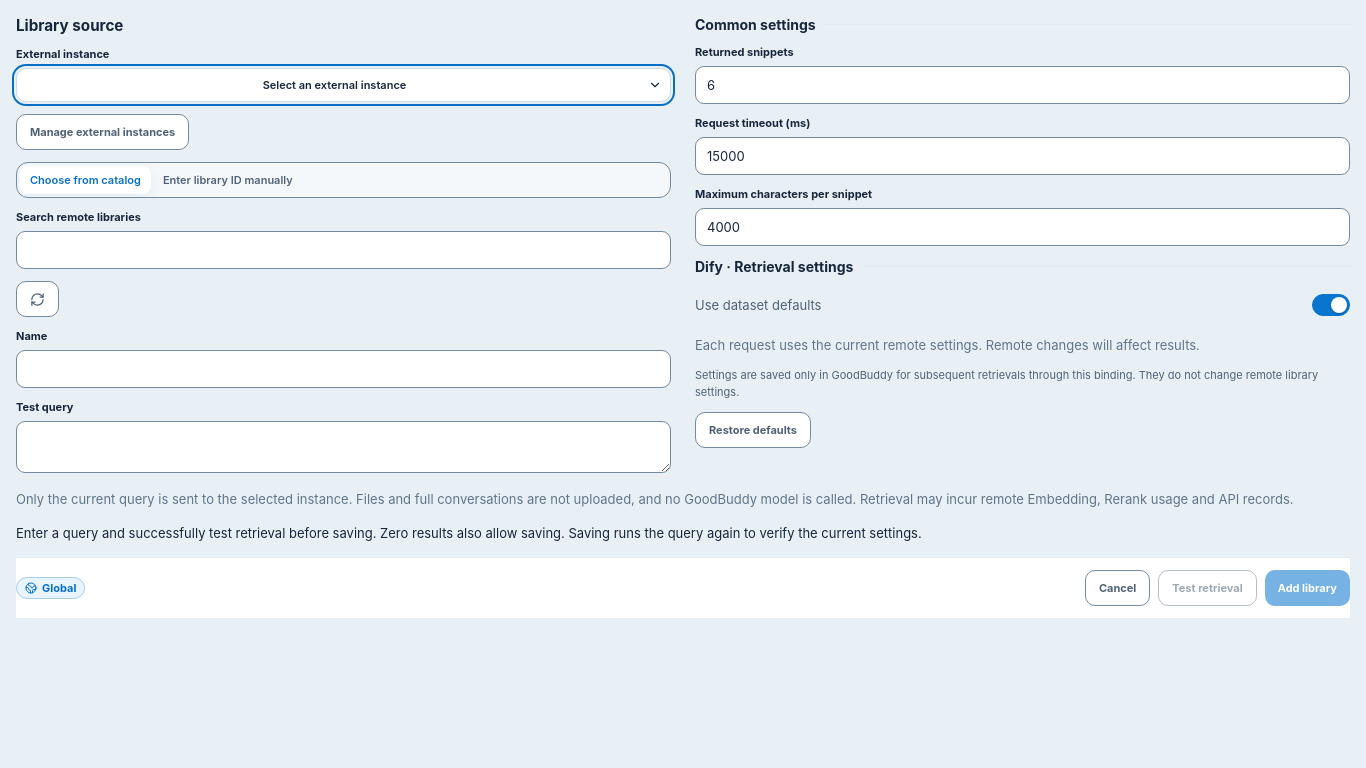
Test case: external knowledge workflows › can dismiss an instance menu when every instance is disabled
Click the button "Select an external instance": click(344, 85) [16,68,671,102]
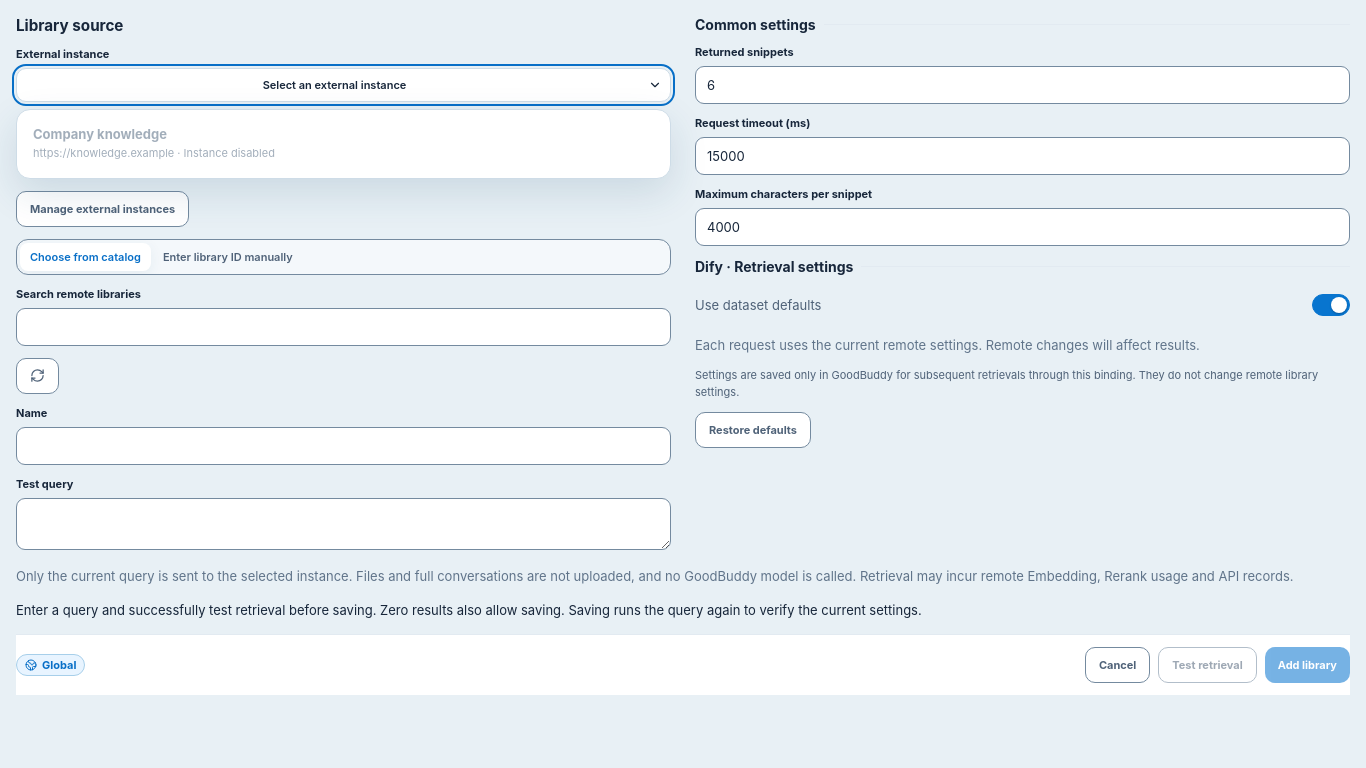
Expected: the menu item is disabled, [25,118,662,170]
Press Escape in the button "Select an external instance", box [16,68,671,102]
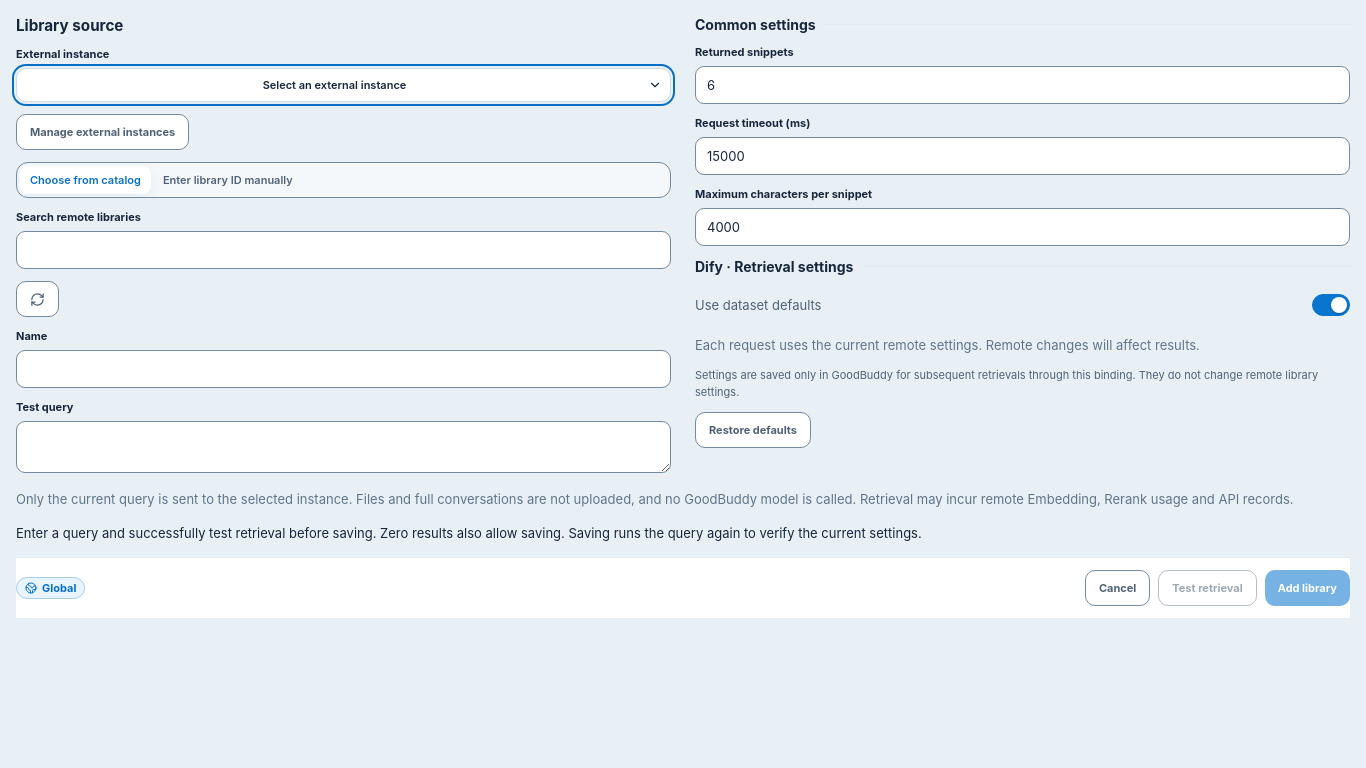
Expected: the menu is gone
